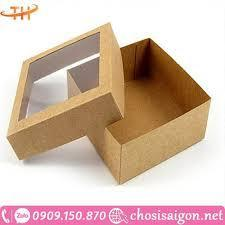box: (6, 23, 211, 186)
